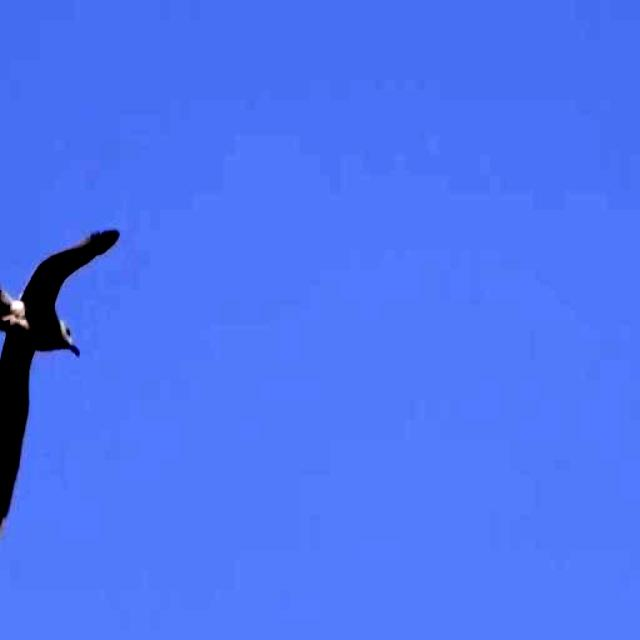airplane: (0, 181, 124, 561)
